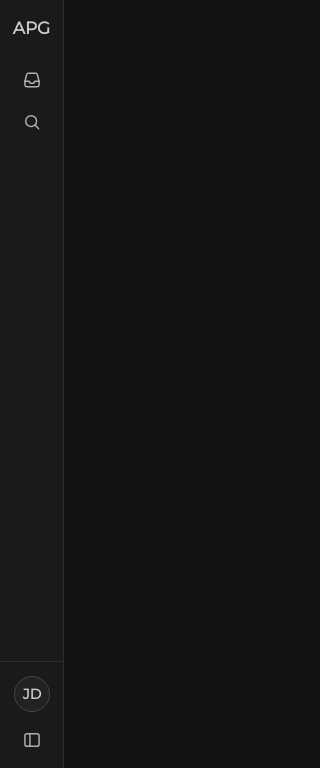
Test case: Sidebar › keeps every name in the rail, and shows it in a tooltip on hover and focus
This screenshot has width=320, height=768.
Expected: the link with aria-label "APG Post-It" is shown, [13, 16, 50, 40]
Hover over the link named "Find" at {"x": 41, "y": 122}, box [8, 102, 74, 142]
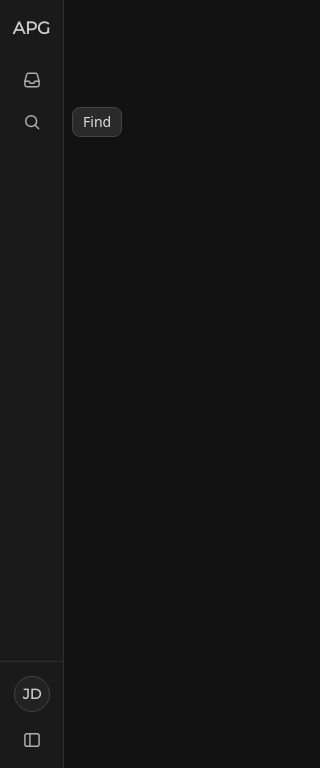
Now the tooltip reads "Find", box [83, 112, 111, 131]
Move the pointer off the link named "Find", box [8, 102, 74, 142]
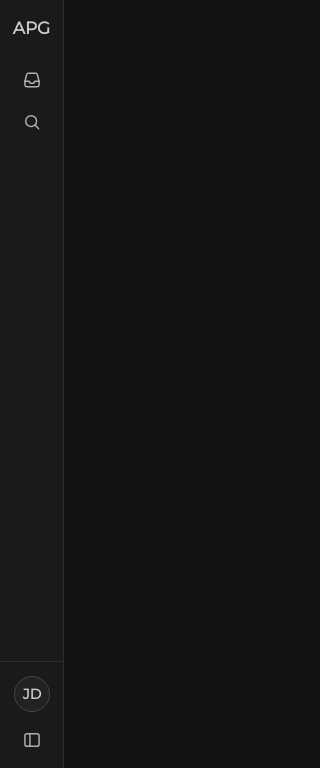
Now the tooltip "Find" is gone
Focus the link named "My queue". click: {"x": 41, "y": 80}
box: [8, 60, 74, 100]
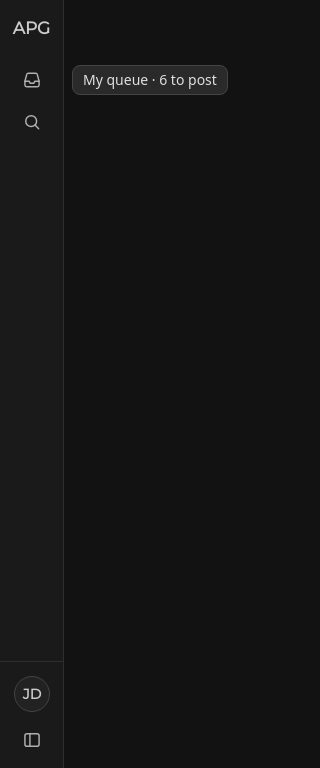
Now the tooltip reads "My queue · 6 to post", box [83, 70, 217, 89]
# Escape dismisses it.
Press Escape
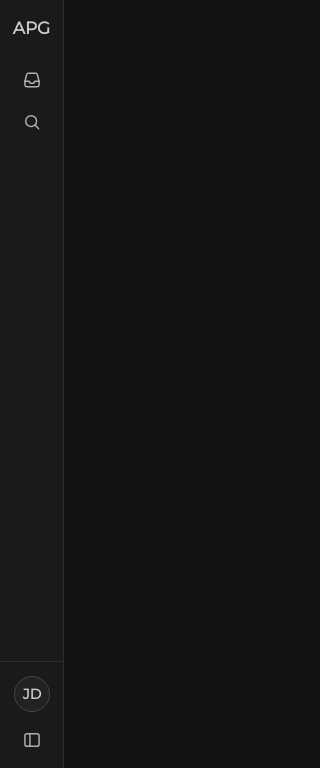
Now the tooltip "My queue · 6 to post" is gone
